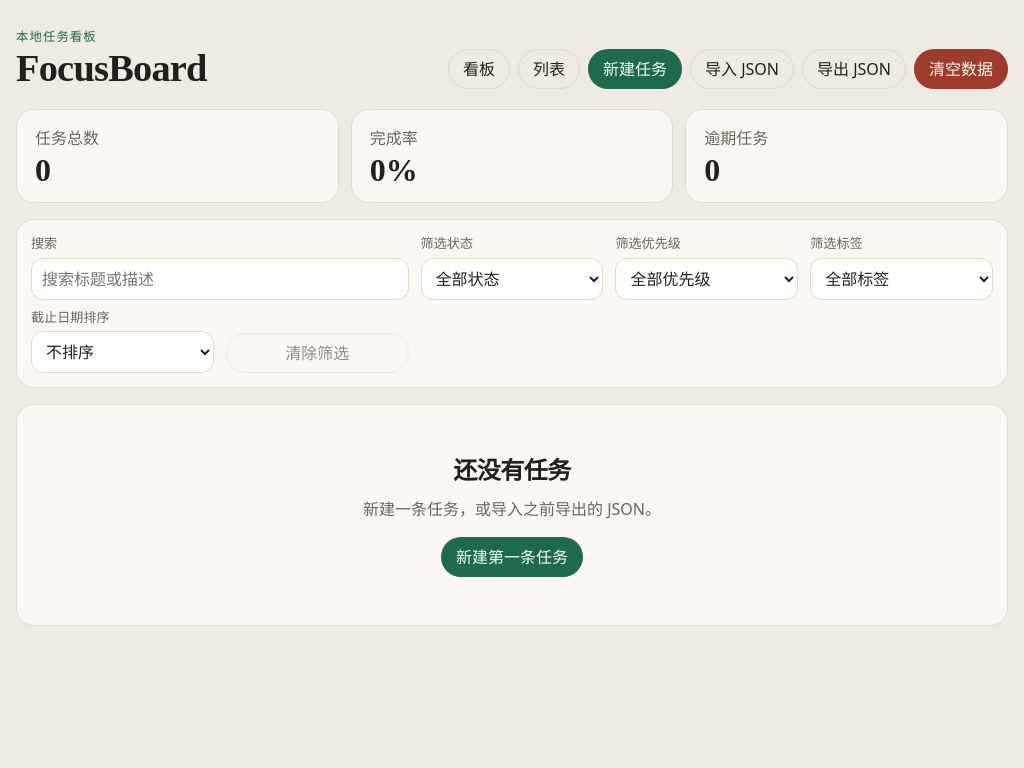
Test case: 看板界面 › 删除前需要确认，取消不会删除
The width and height of the screenshot is (1024, 768).
Click the button "新建任务": (635, 69) [588, 49, 682, 89]
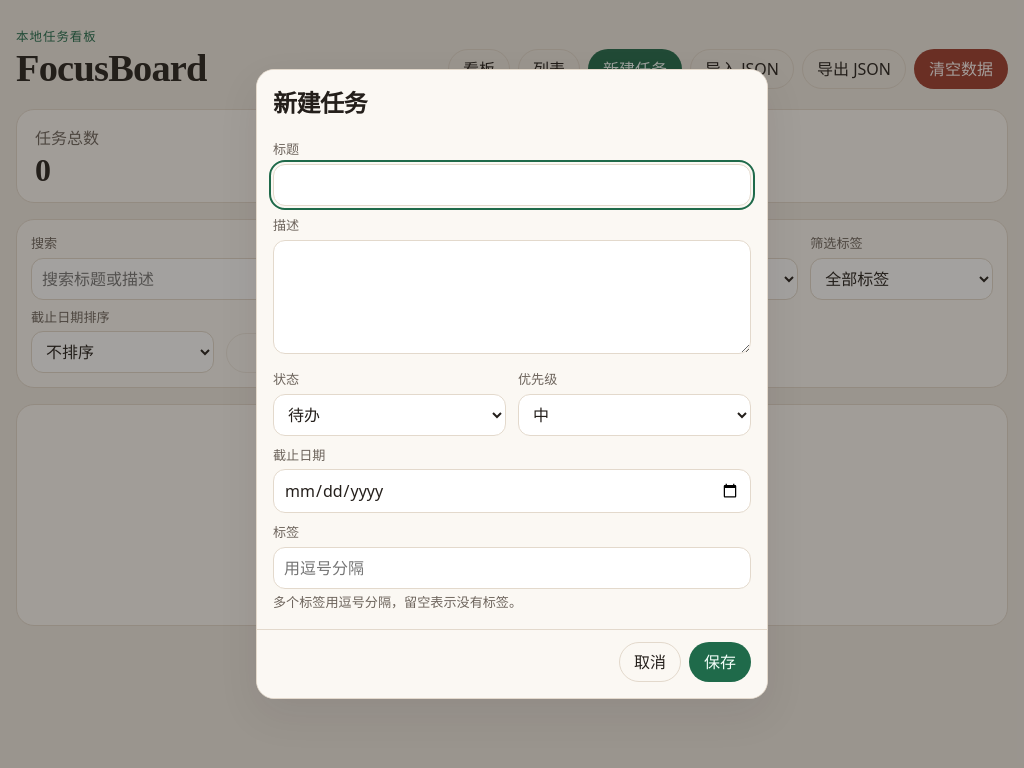
In the field labelled "标题": (512, 185) [273, 164, 751, 206], type "买牛奶"
Click the button "保存": (720, 662) [689, 642, 751, 682]
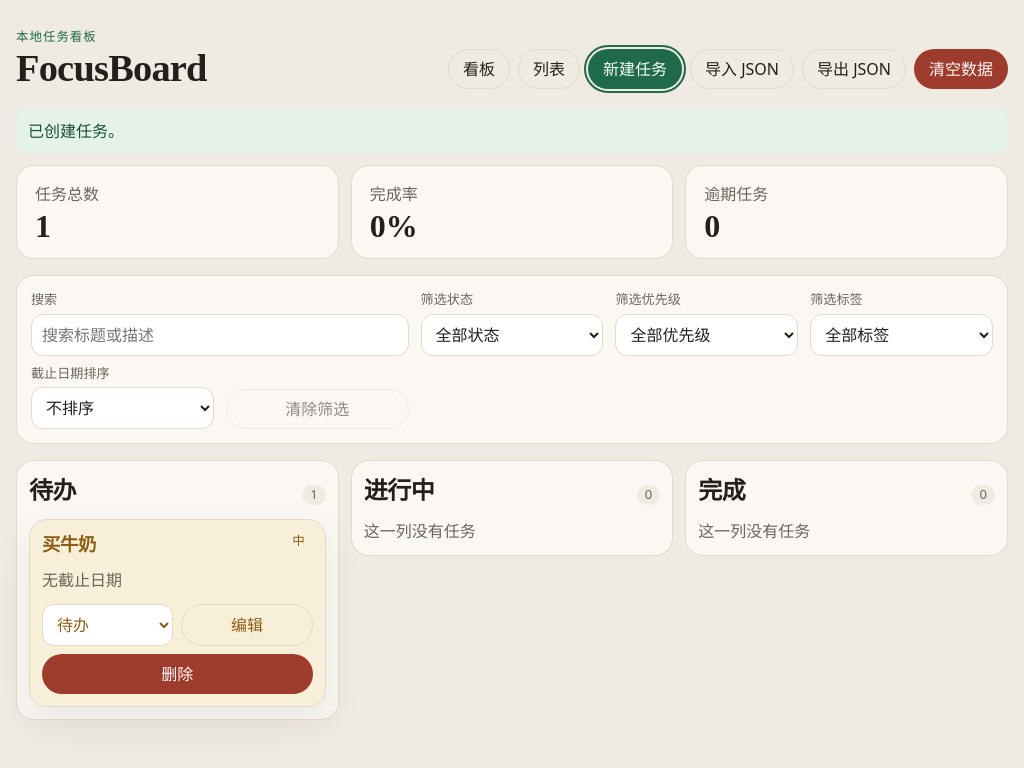
Click the button with aria-label "删除 买牛奶": (177, 674) [42, 654, 313, 694]
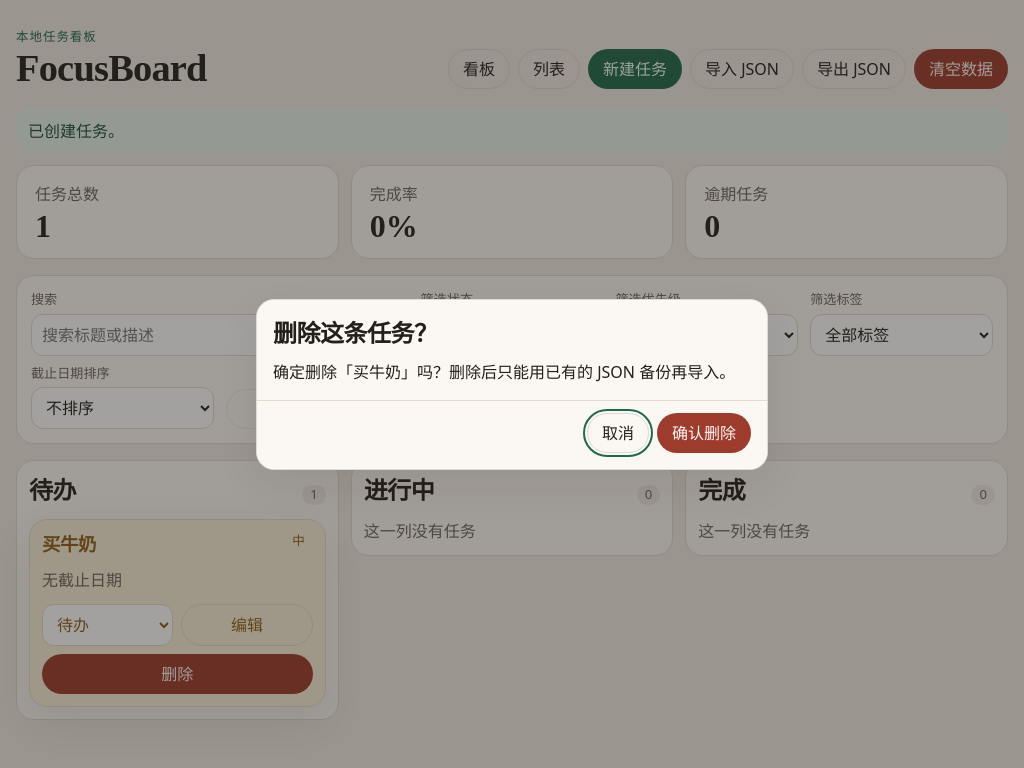
Check: the dialog "删除这条任务？" is shown, box [256, 298, 768, 470]
Click the button "取消": (618, 432) [587, 412, 649, 452]
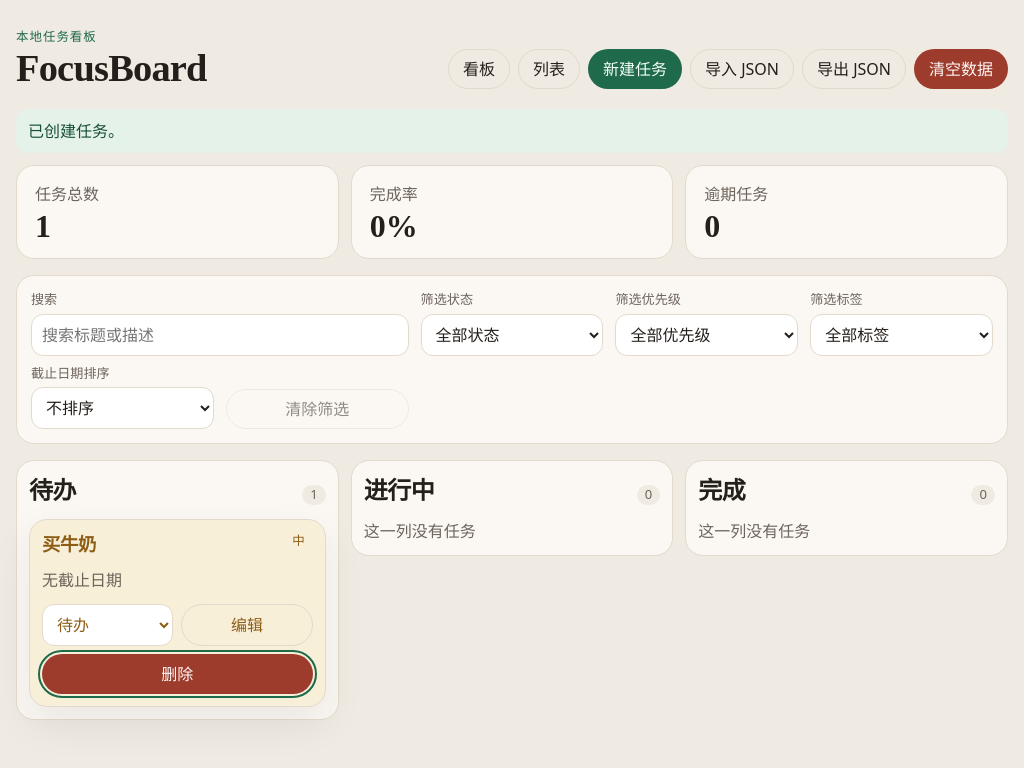
Check: the heading "买牛奶" is shown, box [42, 532, 96, 560]
Click the button with aria-label "删除 买牛奶": (177, 674) [42, 654, 313, 694]
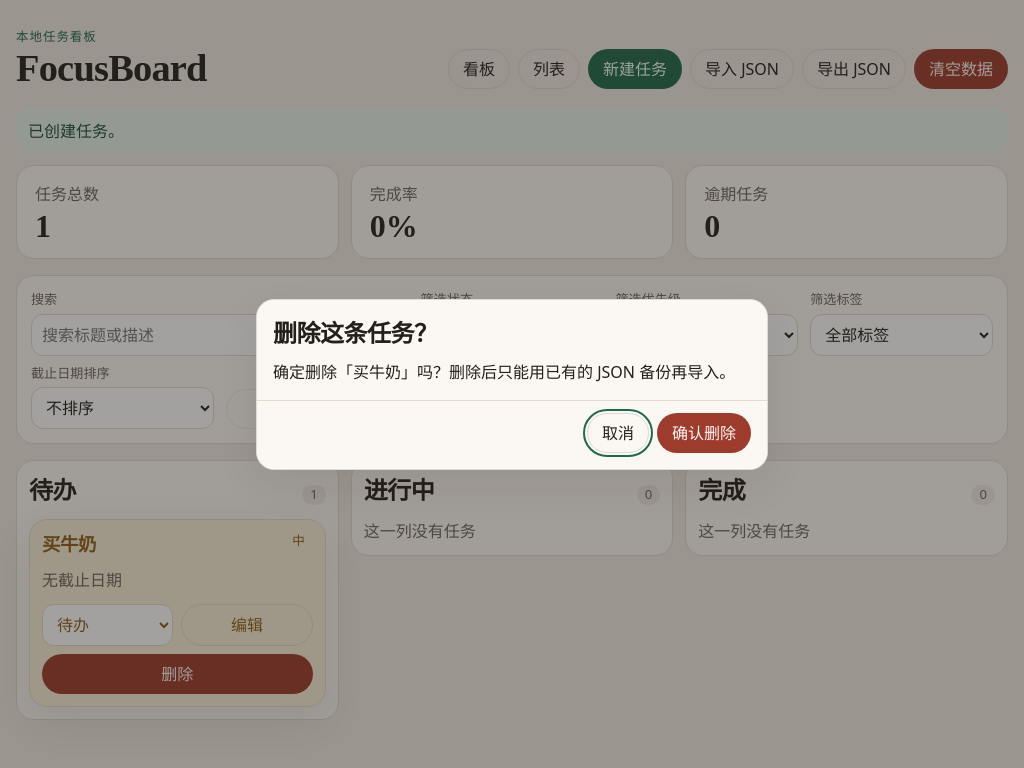
Click the button "确认删除": (704, 432) [657, 412, 751, 452]
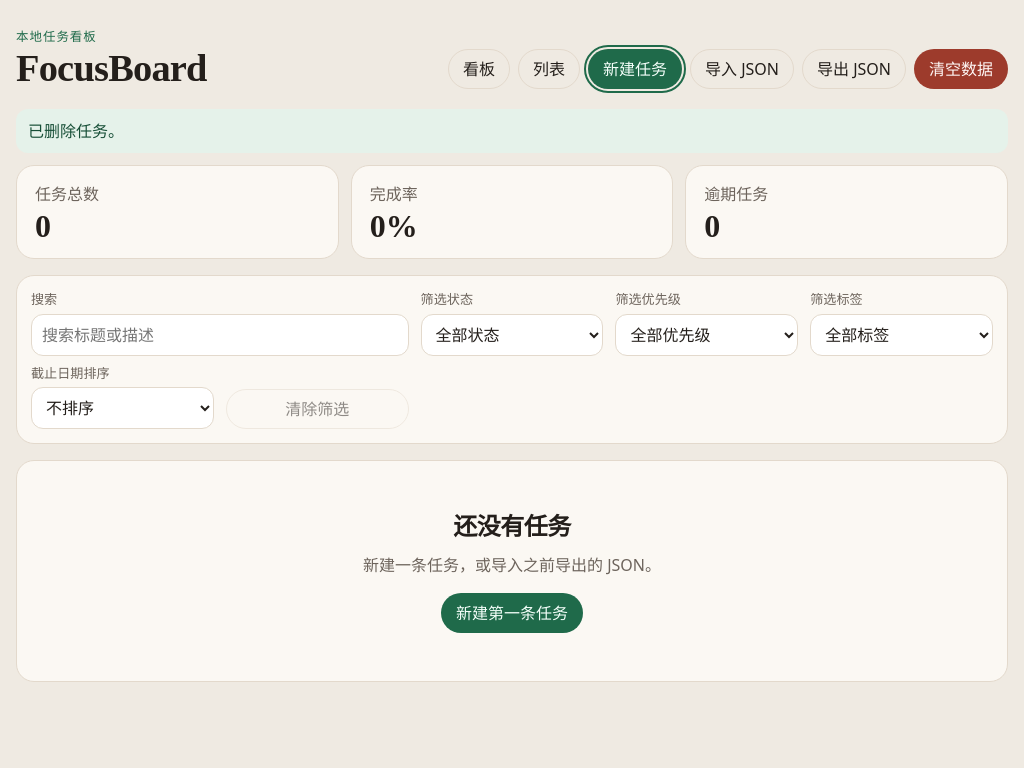
Check: the heading "买牛奶" is gone
Check: the heading "还没有任务" is shown, box [453, 514, 571, 540]
